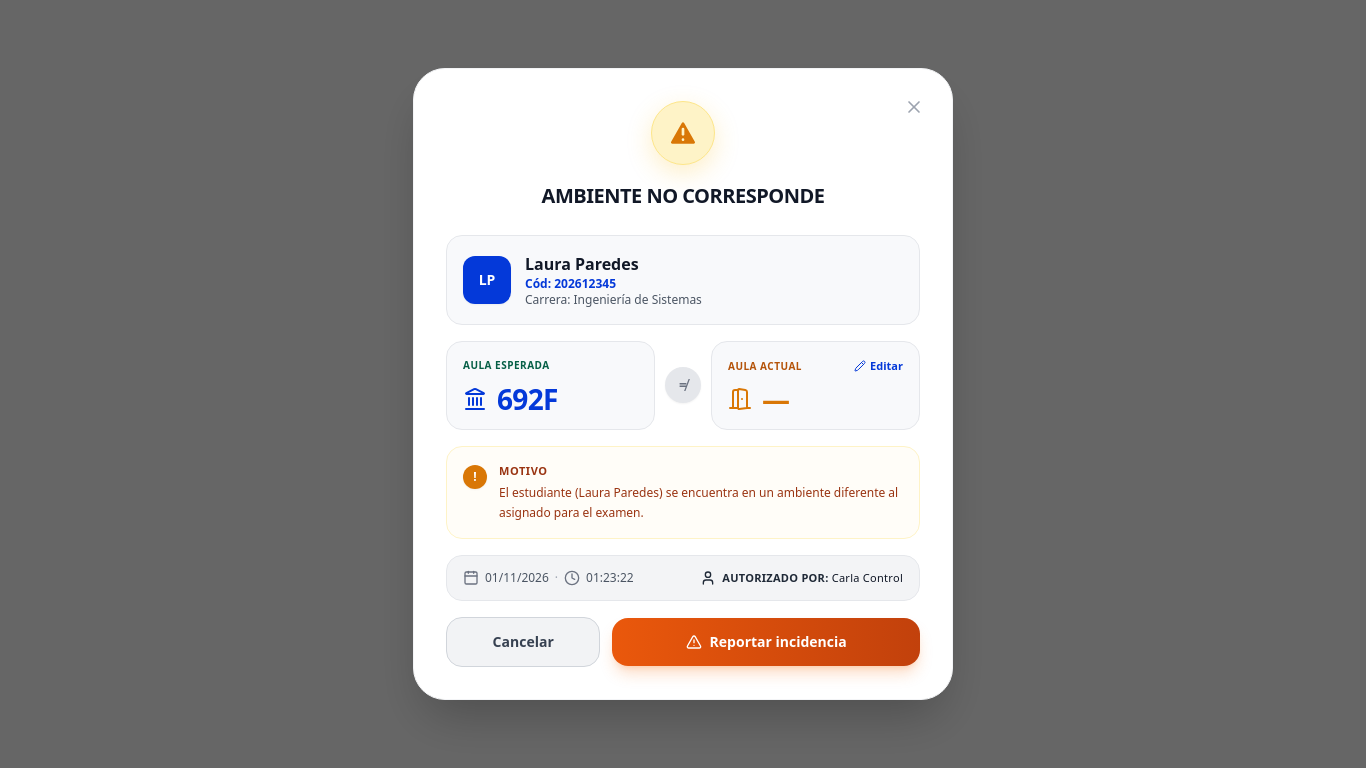
Test case: VerificarAmbienteModal (ACCS-06) › valida el aula actual: obligatoria y distinta de la asignada
The image size is (1366, 768).
Click the button "Reportar incidencia" at [766, 642], box [612,618,920,666]
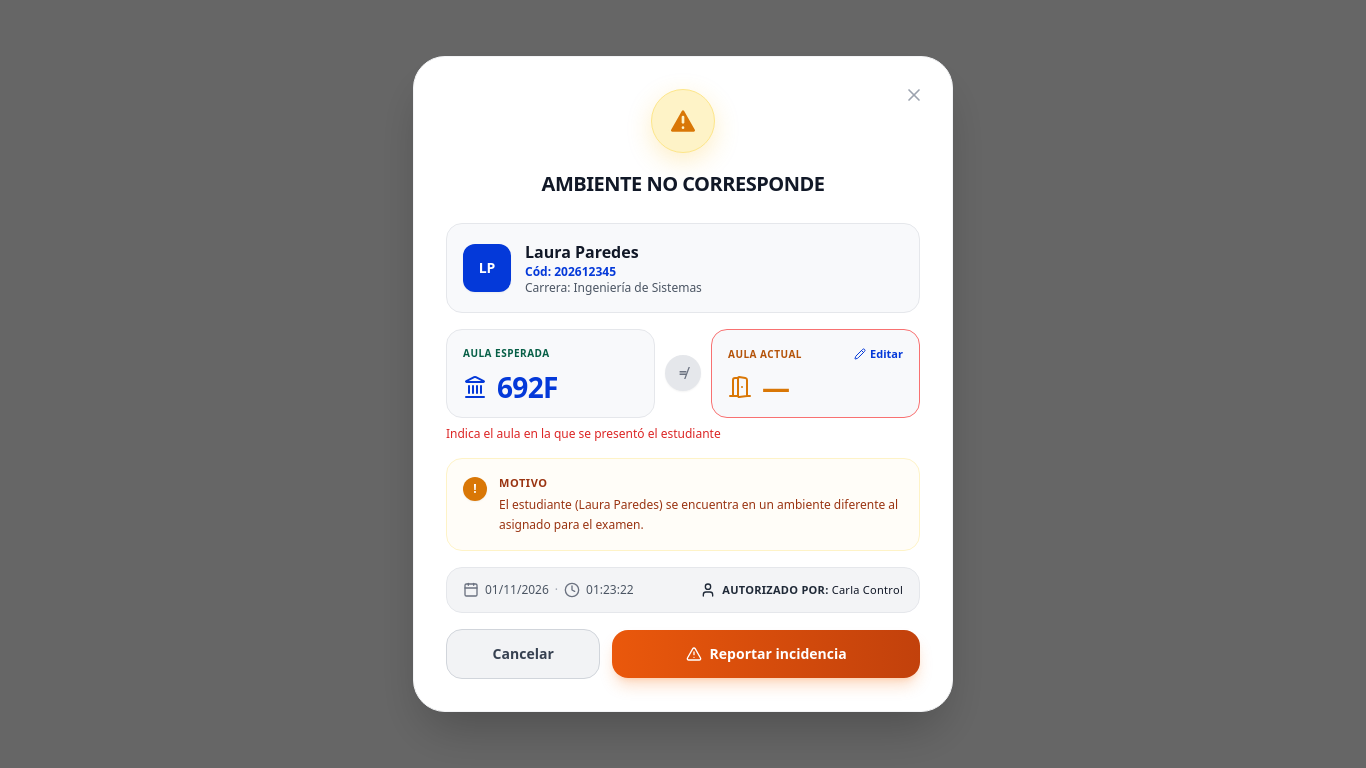
Check: the message shows "Indica el aula", box [446,424,721,442]
